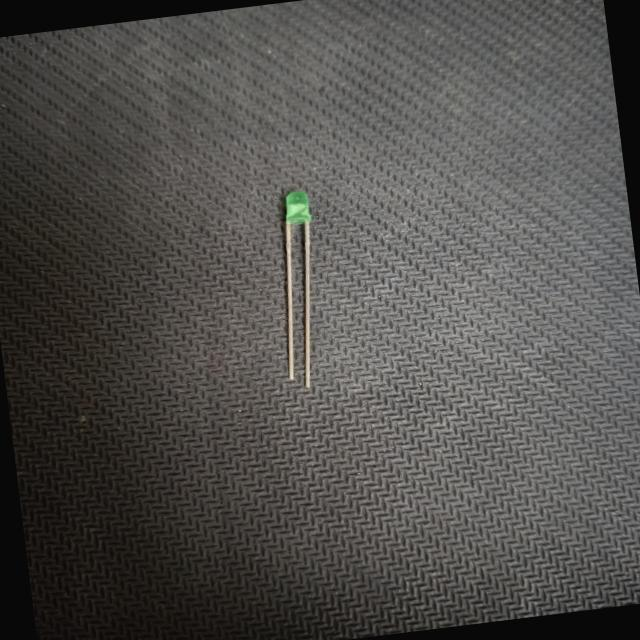led: (250, 180, 346, 400)
